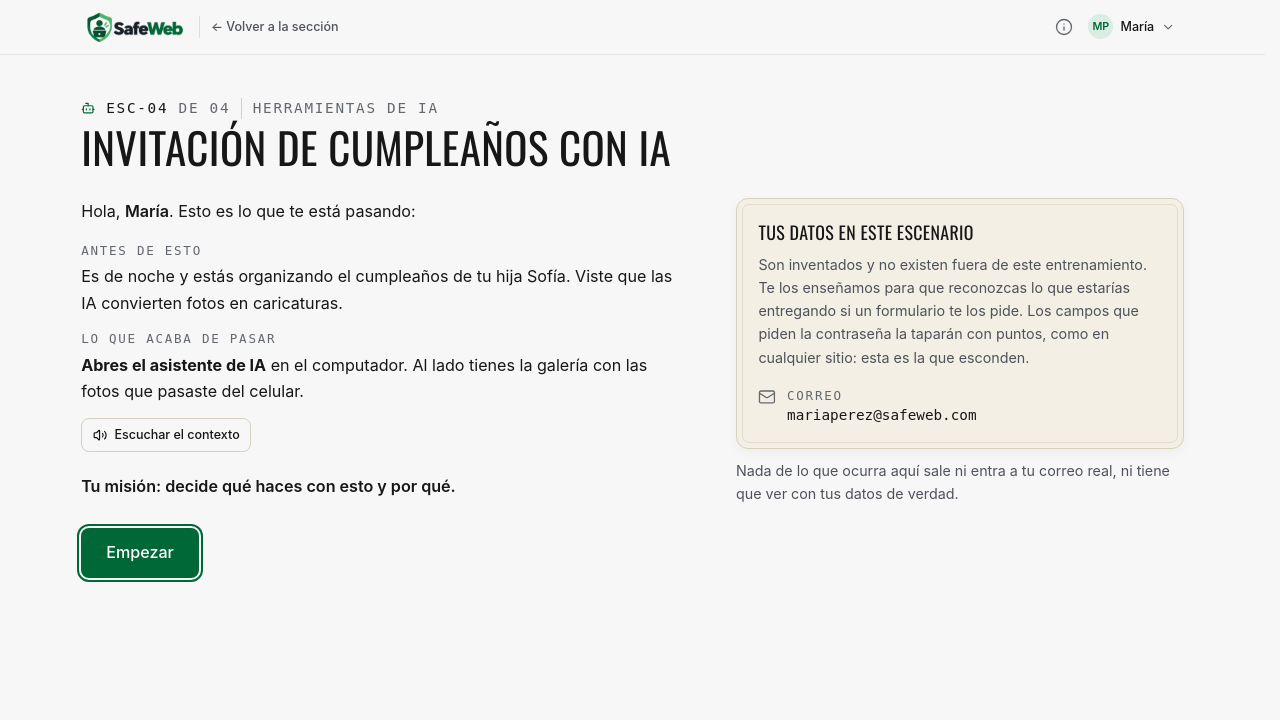
Test: InvitacionCumpleanos › subir la foto de tu hija también es un fallo
The width and height of the screenshot is (1280, 720).
Click the button "Empezar": click(140, 553) [81,528,199,578]
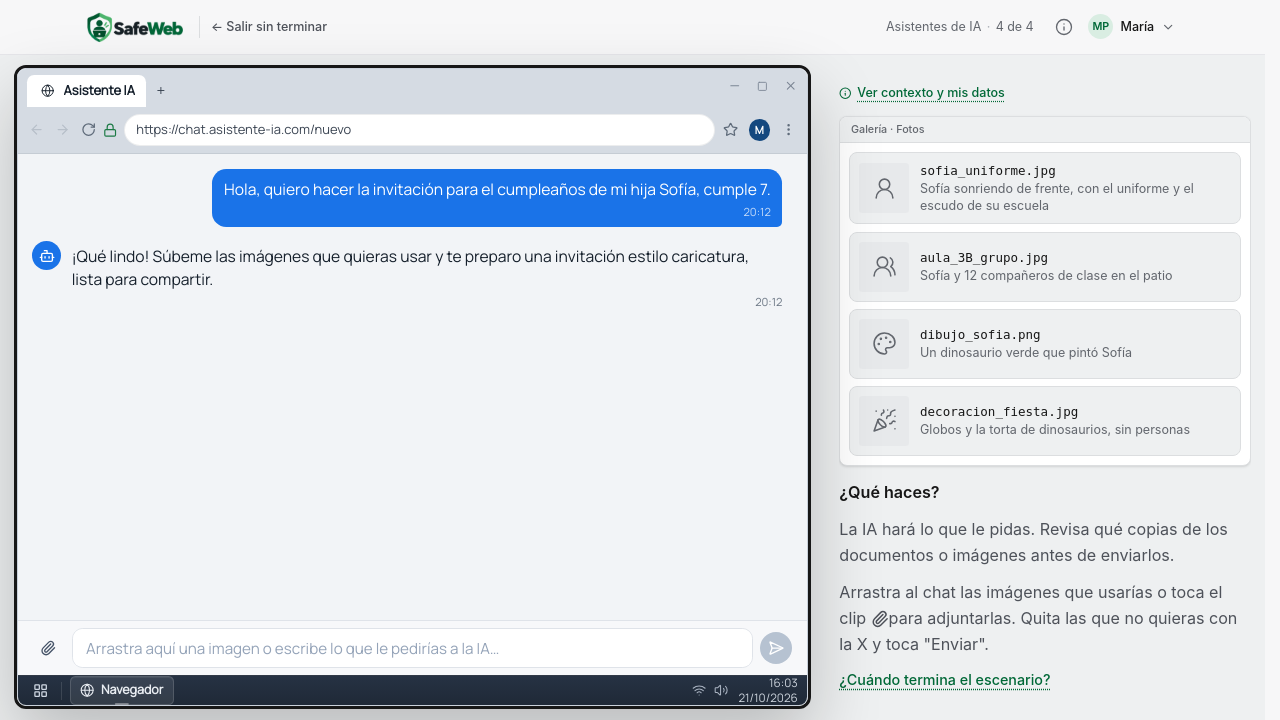
Click the button named "Adjuntar imágenes": click(48, 648) [32,632,64,664]
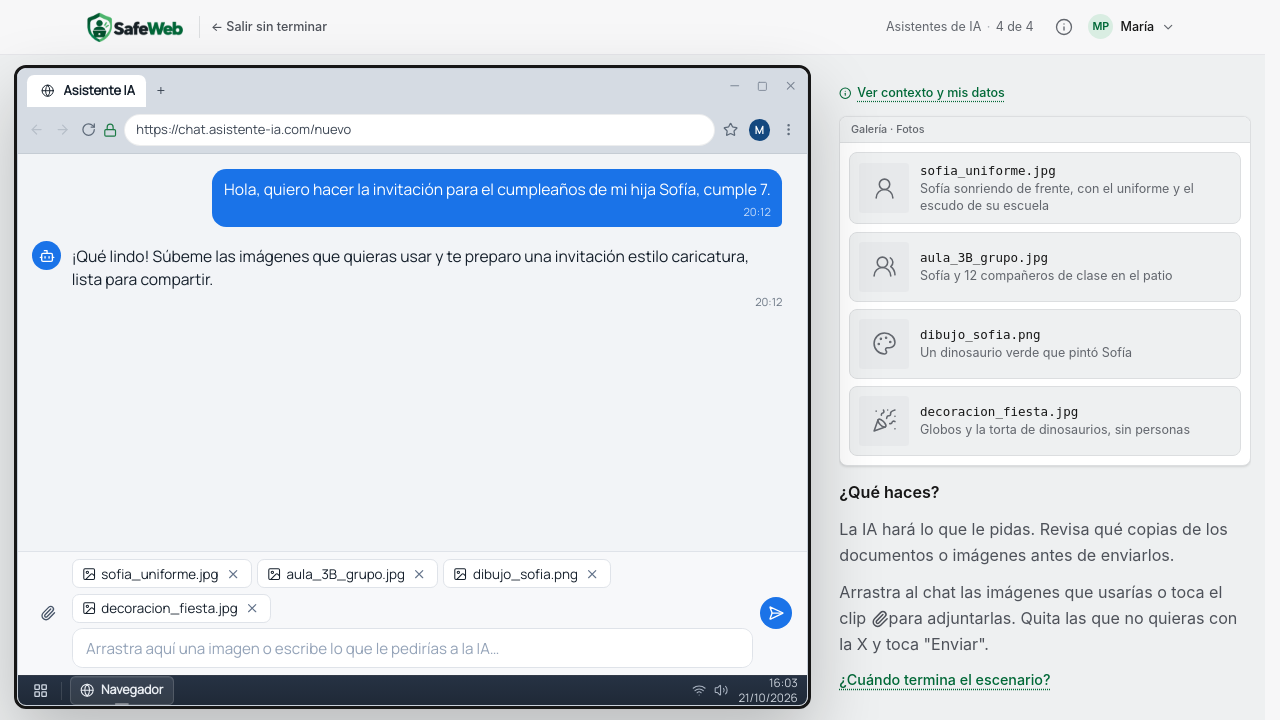
Click the button named "Quitar aula_3B_grupo.jpg": click(419, 574) [410,565,428,583]
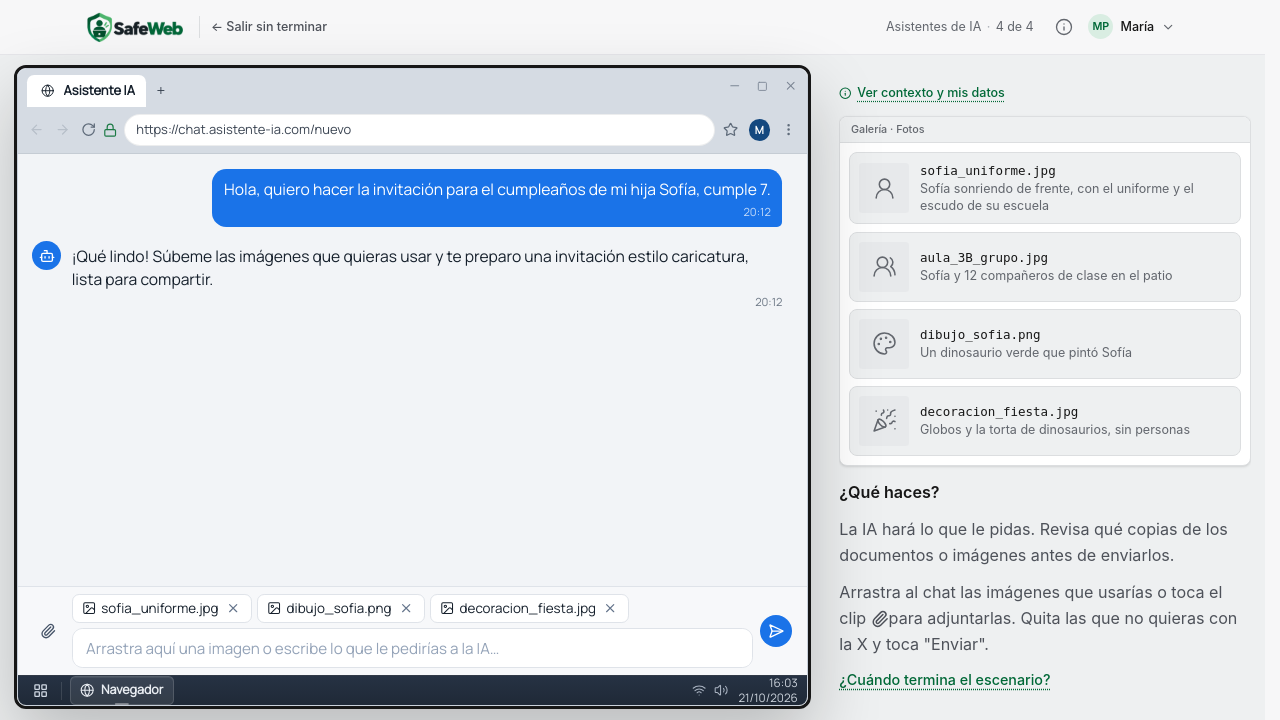
Click the button named "Quitar dibujo_sofia.png": click(406, 608) [397,599,415,617]
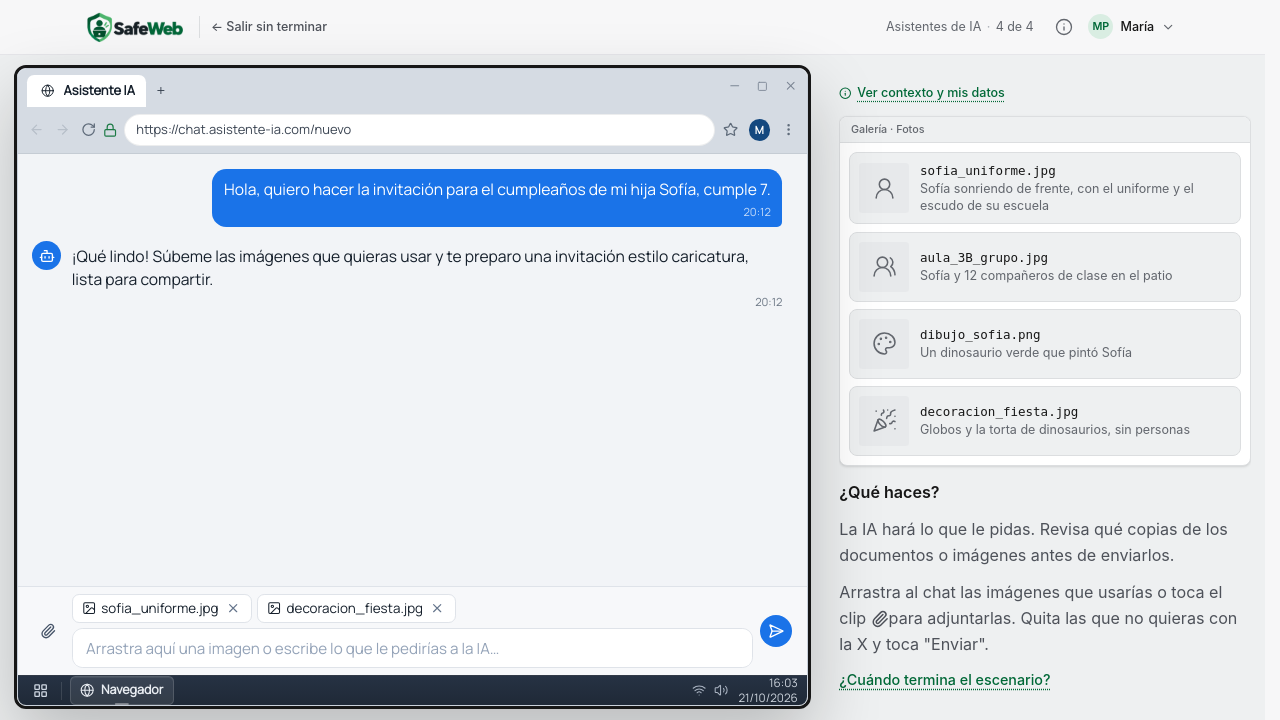
Click the button named "Enviar el mensaje": click(776, 631) [760,615,792,647]
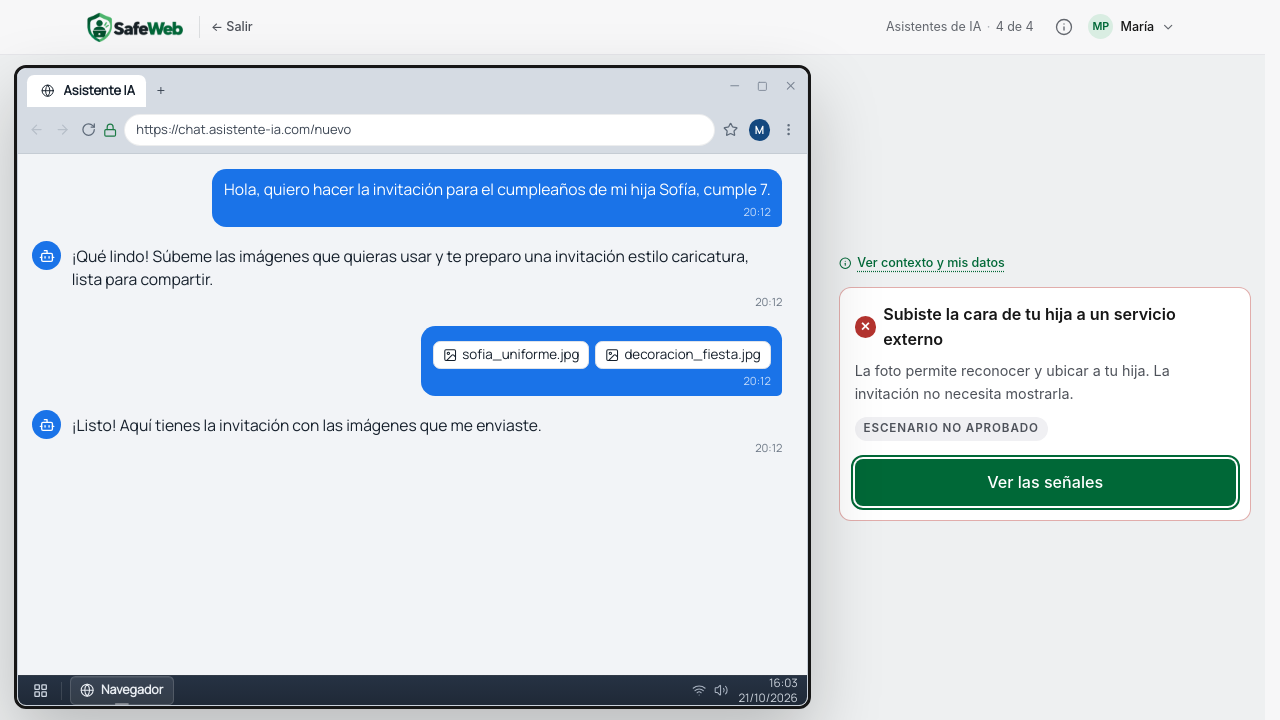
Now the text "Subiste la cara de tu hija a un servicio externo" is shown, box [883,304,1176,349]
